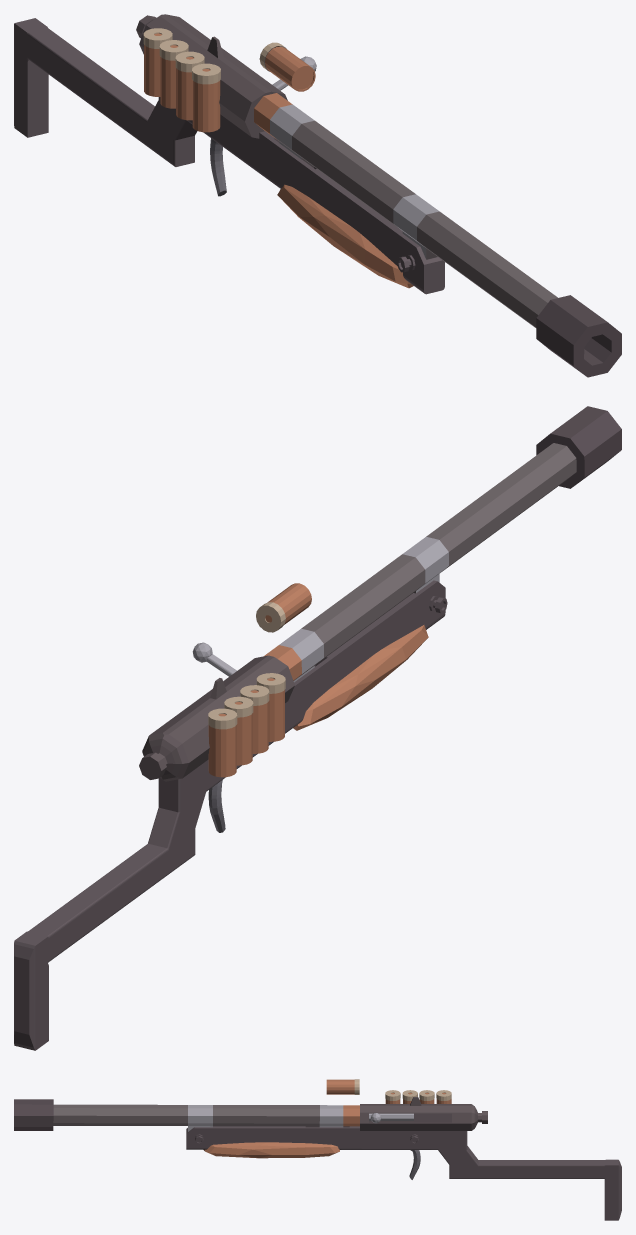
The model's file is Drob1.fbx.
3 renders of one model, top to bottom at view 1: azimuth 30°, elevation 25°; view 2: azimuth 150°, elevation 25°; view 3: azimuth 270°, elevation 25°, orthographic. The views are drawn at different scales.
Parts seen in each view (by area): view 1: Cube, Cylinder.001, Cylinder, Cube.001, Cylinder.008, Cylinder.004, Cylinder.007, Cylinder.005, Cylinder.006, Circle; view 2: Cube, Cylinder.001, Cylinder, Cube.001, Cylinder.005, Cylinder.004, Cylinder.008, Cylinder.006, Cylinder.007; view 3: Cube, Cylinder.001, Cylinder, Cube.001, Cylinder.004, Icosphere.
Boxes of the visible parts, left/top/right/bottom form: Cube: left=14, top=18, right=444, bottom=294; Cylinder.001: left=254, top=93, right=621, bottom=377; Cylinder: left=136, top=14, right=287, bottom=138; Cube.001: left=277, top=184, right=413, bottom=288; Cylinder.008: left=192, top=63, right=220, bottom=132; Cylinder.004: left=259, top=42, right=315, bottom=91; Cylinder.007: left=175, top=51, right=204, bottom=120; Cylinder.005: left=143, top=28, right=172, bottom=96; Cylinder.006: left=159, top=40, right=188, bottom=108; Circle: left=210, top=138, right=226, bottom=196; Cube: left=14, top=580, right=445, bottom=1050; Cylinder.001: left=264, top=406, right=621, bottom=682; Cylinder: left=139, top=655, right=294, bottom=781; Cube.001: left=293, top=625, right=428, bottom=730; Cylinder.005: left=208, top=708, right=237, bottom=777; Cylinder.004: left=256, top=583, right=311, bottom=632; Cylinder.008: left=256, top=673, right=285, bottom=741; Cylinder.006: left=224, top=696, right=253, bottom=765; Cylinder.007: left=240, top=685, right=269, bottom=753; Cube: left=186, top=1126, right=621, bottom=1220; Cylinder.001: left=14, top=1099, right=359, bottom=1131; Cylinder: left=360, top=1097, right=487, bottom=1130; Cube.001: left=203, top=1142, right=339, bottom=1158; Cylinder.004: left=326, top=1079, right=359, bottom=1094; Icosphere: left=369, top=1113, right=413, bottom=1123.
Bounding box in the file's own units: 189 × 450 × 1792.
1 material, 1 textured.
